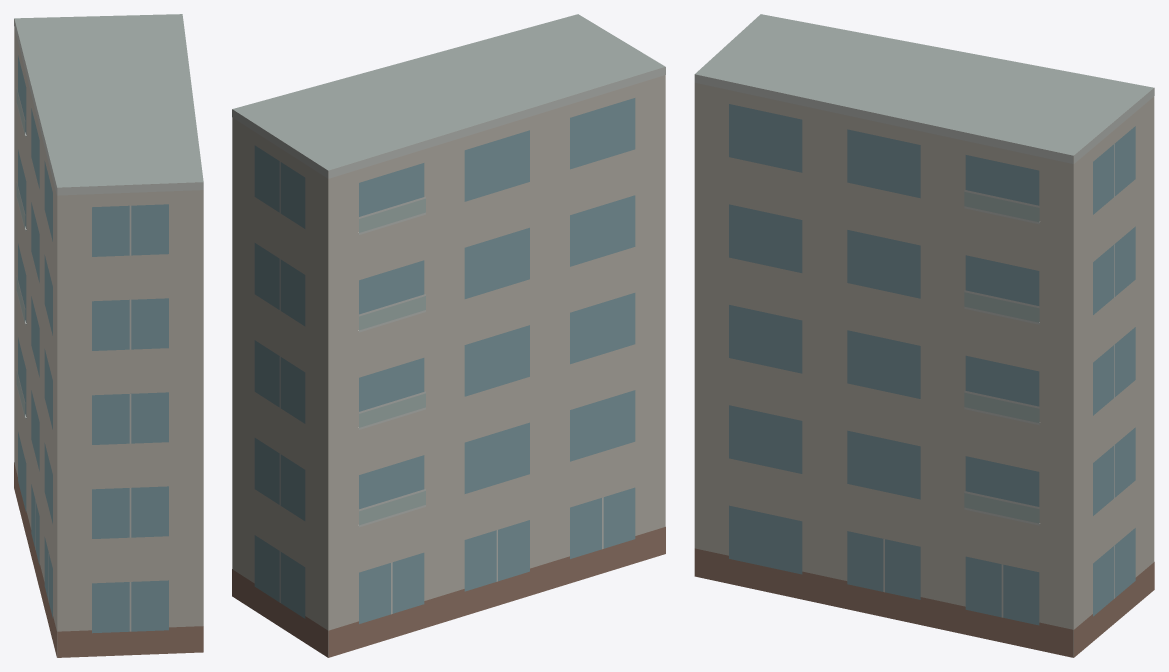
The model's file is survey-upis-33003119.glb.
3 renders of one model, left to right at view 1: azimuth 30°, elevation 25°; view 2: azimuth 150°, elevation 25°; view 3: azimuth 270°, elevation 25°, orthographic. The views are drawn at different scales.
Parts seen in each view (by area): view 1: survey-upis-33003119.tmp; view 2: survey-upis-33003119.tmp; view 3: survey-upis-33003119.tmp.
Part boxes in pixels (x1,y1,x2,y2): survey-upis-33003119.tmp: (14,14,203,657); survey-upis-33003119.tmp: (232,14,665,657); survey-upis-33003119.tmp: (694,14,1154,657).
Size of the model in its own units: 8.79 by 14.5 by 12.04.
